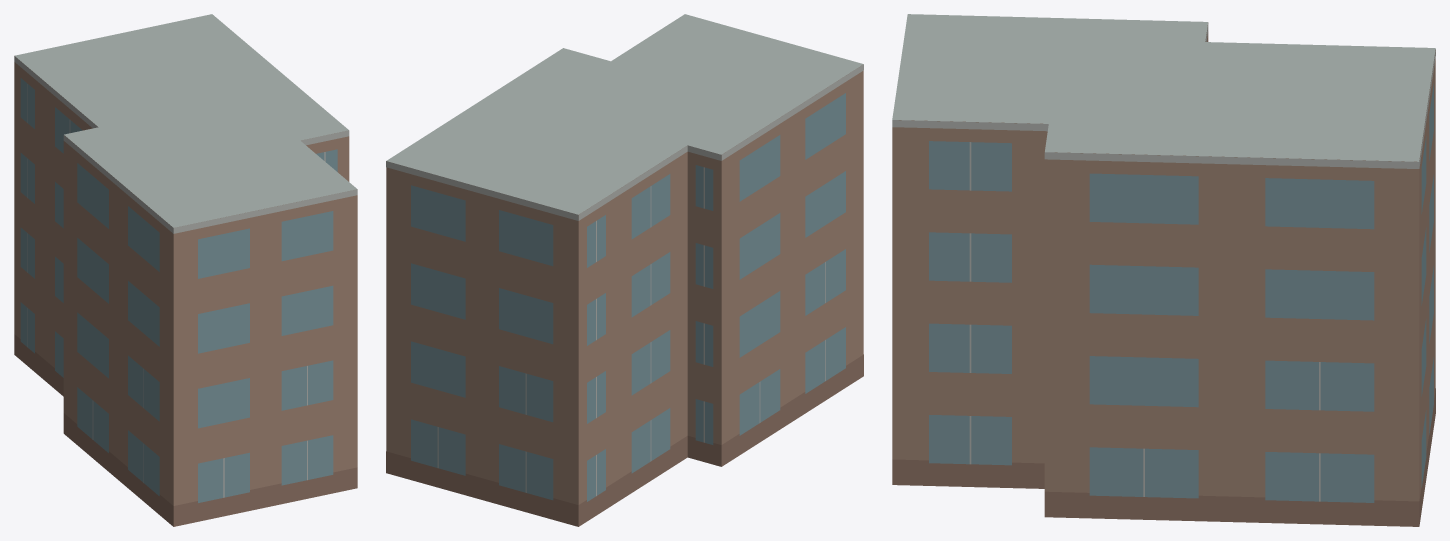
The model's file is residential-292ac679-8062-42c1-a01e-39462b10b5f2.glb.
3 views of the same model, side by side, from view 1: azimuth 30°, elevation 25°; view 2: azimuth 150°, elevation 25°; view 3: azimuth 270°, elevation 25° (orthographic). The views are drawn at different scales.
Visible parts, largest first — view 1: residential-292ac679-8062-42c1-a01e-39462b10b5f2.tmp; view 2: residential-292ac679-8062-42c1-a01e-39462b10b5f2.tmp; view 3: residential-292ac679-8062-42c1-a01e-39462b10b5f2.tmp.
Part boxes in pixels (left/top/right/bottom): residential-292ac679-8062-42c1-a01e-39462b10b5f2.tmp: left=14, top=14, right=357, bottom=526; residential-292ac679-8062-42c1-a01e-39462b10b5f2.tmp: left=386, top=14, right=863, bottom=526; residential-292ac679-8062-42c1-a01e-39462b10b5f2.tmp: left=892, top=14, right=1435, bottom=526.
Size of the model in its own units: 10.61 by 12.2 by 16.48.
